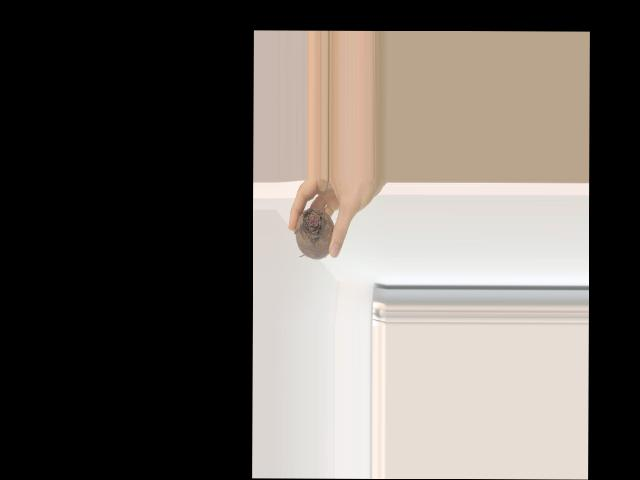beet: (293, 178, 335, 260)
